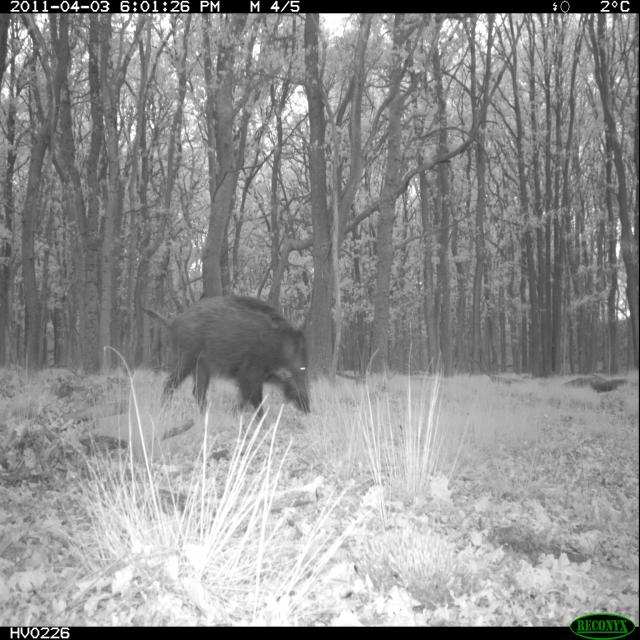boar: (126, 269, 335, 448)
